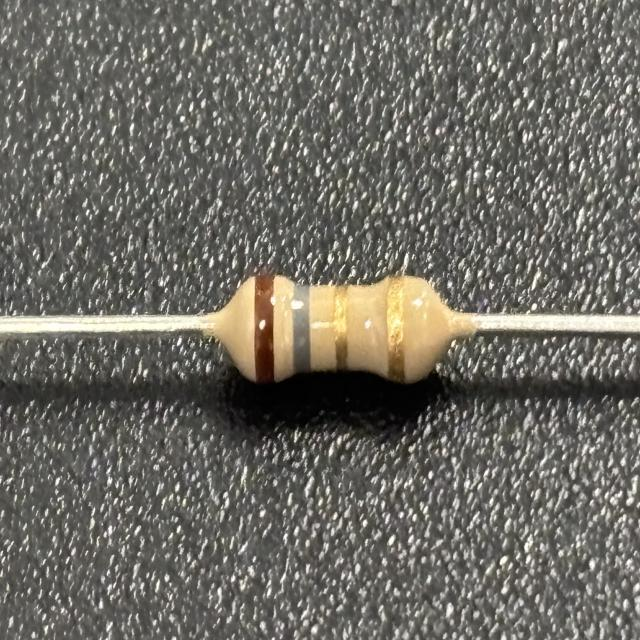resistor: (224, 267, 451, 398)
